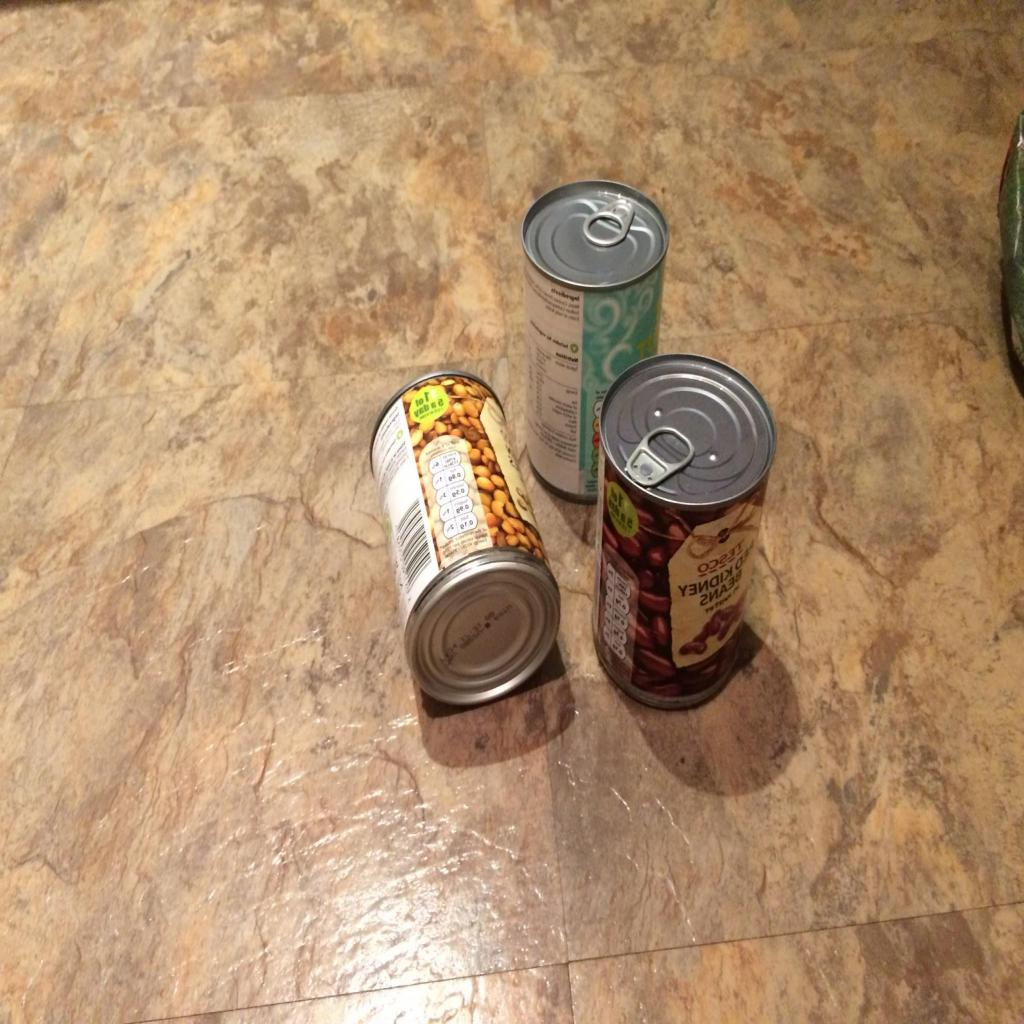Food Can: (591, 354, 777, 709), (370, 371, 560, 704), (522, 180, 670, 502)
Pop tab: (627, 426, 695, 486), (584, 196, 634, 246)
